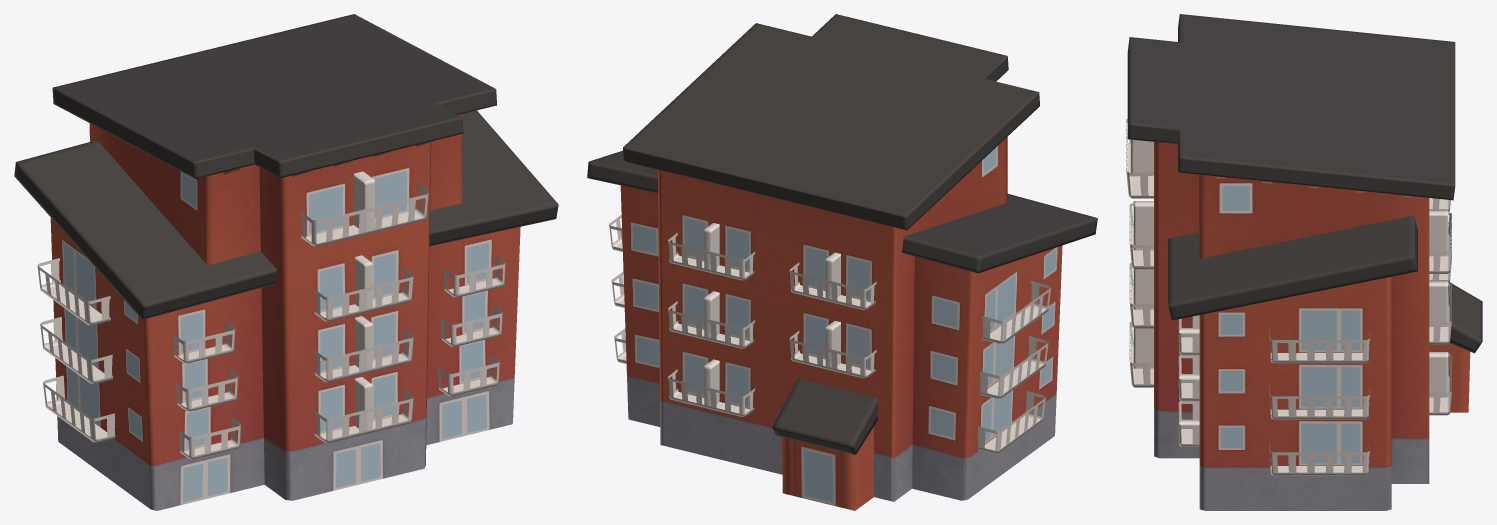
The model's file is House_Q.fbx.
3 renders of one model, left to right at view 1: azimuth 30°, elevation 25°; view 2: azimuth 150°, elevation 25°; view 3: azimuth 270°, elevation 25°, orthographic. The views are drawn at different scales.
Visible parts, largest first — view 1: House_Q; view 2: House_Q; view 3: House_Q.
Part boxes in pixels (x1,y1,x2,y2): House_Q: (14,14,558,510); House_Q: (587,14,1097,510); House_Q: (1126,14,1482,510).
Bounding box in the file's own units: 845 × 677 × 634.
